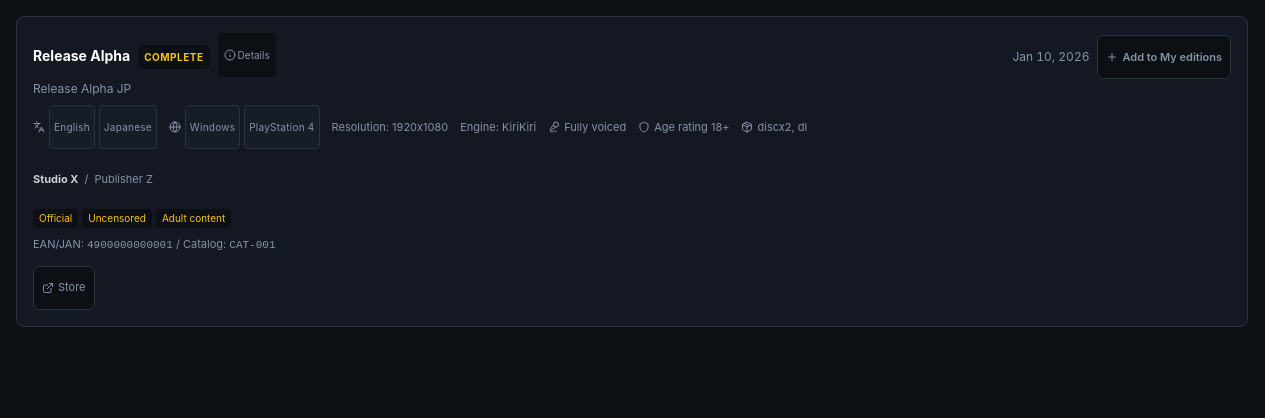
Test case: ReleasesSection branches › shows a mutation error when marking a release owned fails
Click the button "Add to My editions": (1164, 57) [1098,35,1231,79]
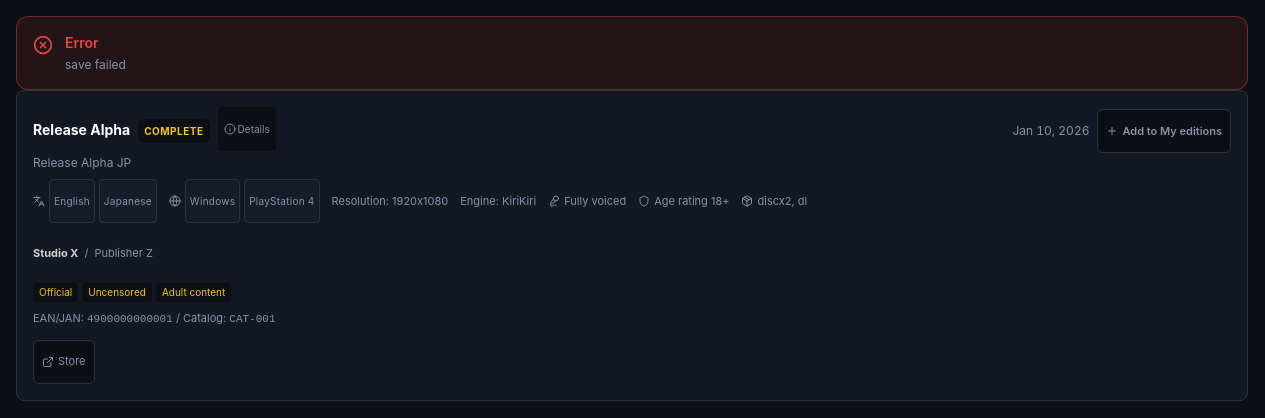
Expected: the text "save failed" is shown, [65,57,126,72]
